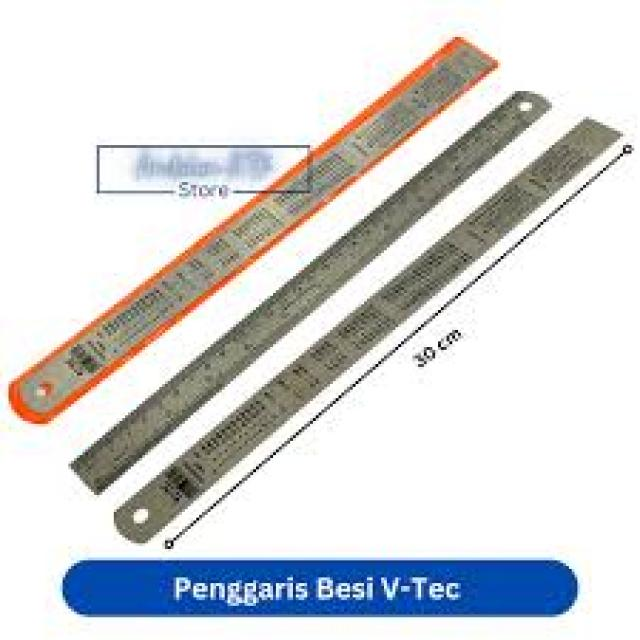Ruler: (119, 119, 617, 538), (71, 100, 546, 492), (14, 40, 492, 412)
